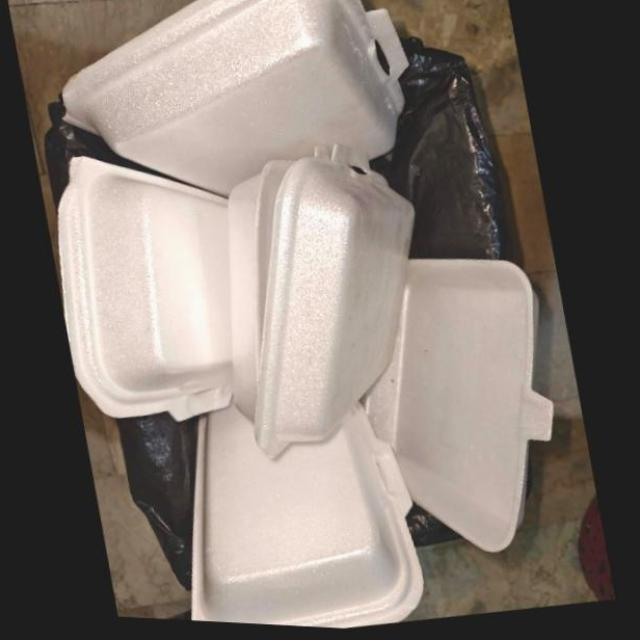xop: (63, 0, 412, 202), (230, 145, 417, 465), (363, 259, 556, 554), (190, 405, 424, 632), (59, 161, 236, 426)
